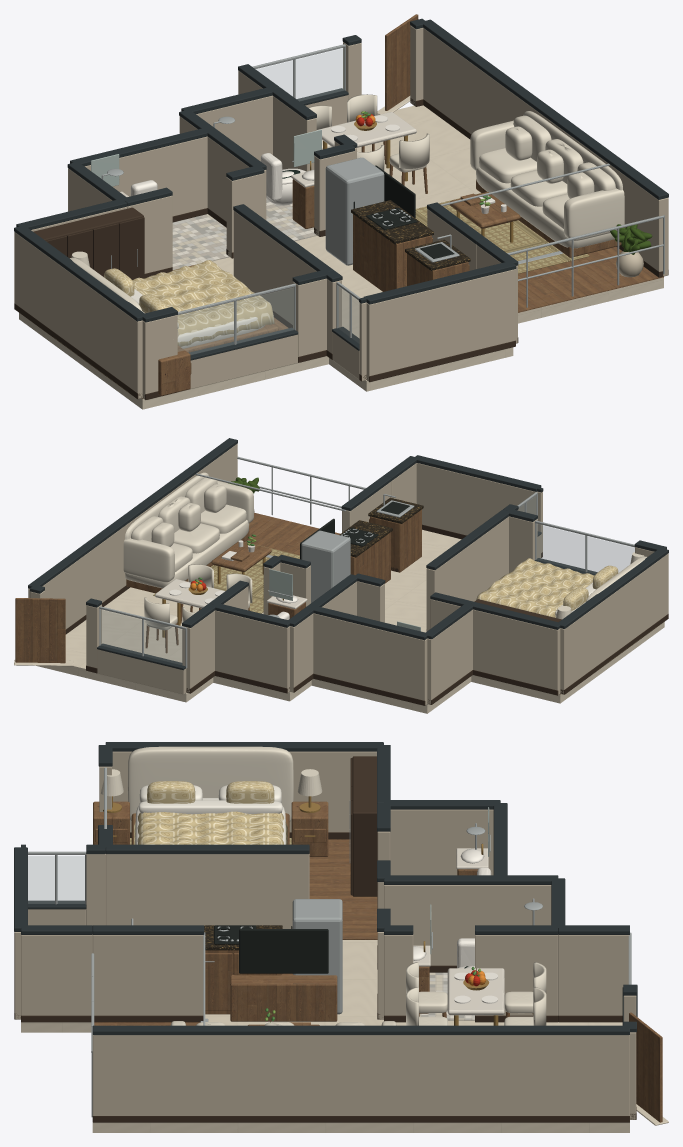
The model's file is Codename-Elements_Tower-2_Flat-06_1BHK.glb.
3 renders of one model, top to bottom at view 1: azimuth 30°, elevation 25°; view 2: azimuth 150°, elevation 25°; view 3: azimuth 270°, elevation 25°, orthographic. The views are drawn at different scales.
Visible parts, largest first — view 1: Apartment foundation, Ivory masonry.010, Ivory masonry.015, Ivory masonry.008, Soft jacquard duvet with folds.003, Cutaway window glazing, Ivory masonry.002, Ivory masonry.017, Brushed refrigerator, Balcony · timber deck.001, Charcoal wall cut.008, Window sill (+65 smaller); view 2: Apartment foundation, Ivory masonry.002, Ivory masonry.015, Ivory masonry, Ivory masonry.010, Ivory masonry.008, Ivory masonry.004, Ivory masonry.017, Soft jacquard duvet with folds.003, Open walnut door leaf, Cutaway window glazing, Cutaway window glazing.001 (+52 smaller); view 3: Ivory masonry.008, Ivory masonry.017, Apartment foundation, Ivory masonry.024, Ivory masonry.020, Padded headboard.003, Charcoal wall cut.008, Ivory masonry.001, Ivory masonry.009, Ivory masonry.005, Walnut television console, Soft jacquard duvet with folds.003 (+40 smaller).
Part boxes in pixels (box(x1,y1,x2,y2)): Apartment foundation: box(19, 105, 663, 409); Ivory masonry.010: box(366, 269, 515, 381); Ivory masonry.015: box(14, 232, 142, 398); Ivory masonry.008: box(423, 28, 668, 275); Soft jacquard duvet with folds.003: box(132, 260, 274, 346); Cutaway window glazing: box(178, 287, 294, 354); Ivory masonry.002: box(85, 136, 207, 216); Ivory masonry.017: box(233, 211, 316, 324); Brushed refrigerator: box(325, 157, 384, 265); Balcony · timber deck.001: box(518, 246, 663, 312); Charcoal wall cut.008: box(422, 19, 668, 199); Window sill: box(178, 334, 297, 392); Apartment foundation: box(36, 529, 664, 713); Ivory masonry.002: box(313, 613, 427, 704); Ivory masonry.015: box(560, 553, 668, 694); Ivory masonry: box(473, 609, 560, 694); Ivory masonry.010: box(416, 463, 536, 535); Ivory masonry.008: box(28, 443, 237, 629); Ivory masonry.004: box(215, 610, 289, 692); Ivory masonry.017: box(426, 516, 508, 631); Soft jacquard duvet with folds.003: box(476, 558, 594, 617); Open walnut door leaf: box(15, 598, 65, 663); Cutaway window glazing: box(536, 524, 634, 573); Cutaway window glazing.001: box(100, 609, 184, 665); Ivory masonry.008: box(92, 1035, 629, 1115); Ivory masonry.017: box(105, 854, 309, 928); Apartment foundation: box(21, 940, 629, 1132); Ivory masonry.024: box(92, 934, 203, 1015); Ivory masonry.020: box(384, 885, 551, 965); Padded headboard.003: box(127, 746, 293, 821); Charcoal wall cut.008: box(92, 1025, 629, 1035); Ivory masonry.001: box(390, 809, 493, 875); Ivory masonry.009: box(21, 935, 92, 1015); Ivory masonry.005: box(558, 935, 629, 1015); Walnut television console: box(230, 973, 337, 1021); Soft jacquard duvet with folds.003: box(134, 811, 287, 844).
Bounding box in the file's own units: 7.86 × 1.37 × 7.46.
25 materials, 6 textured.
